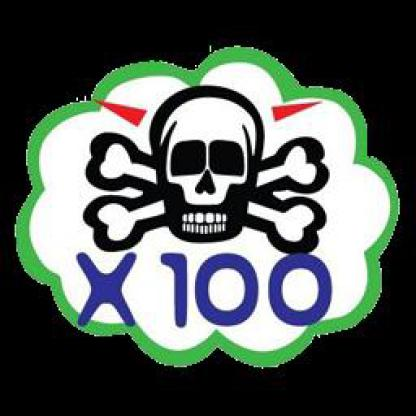skull: (73, 86, 331, 258)
